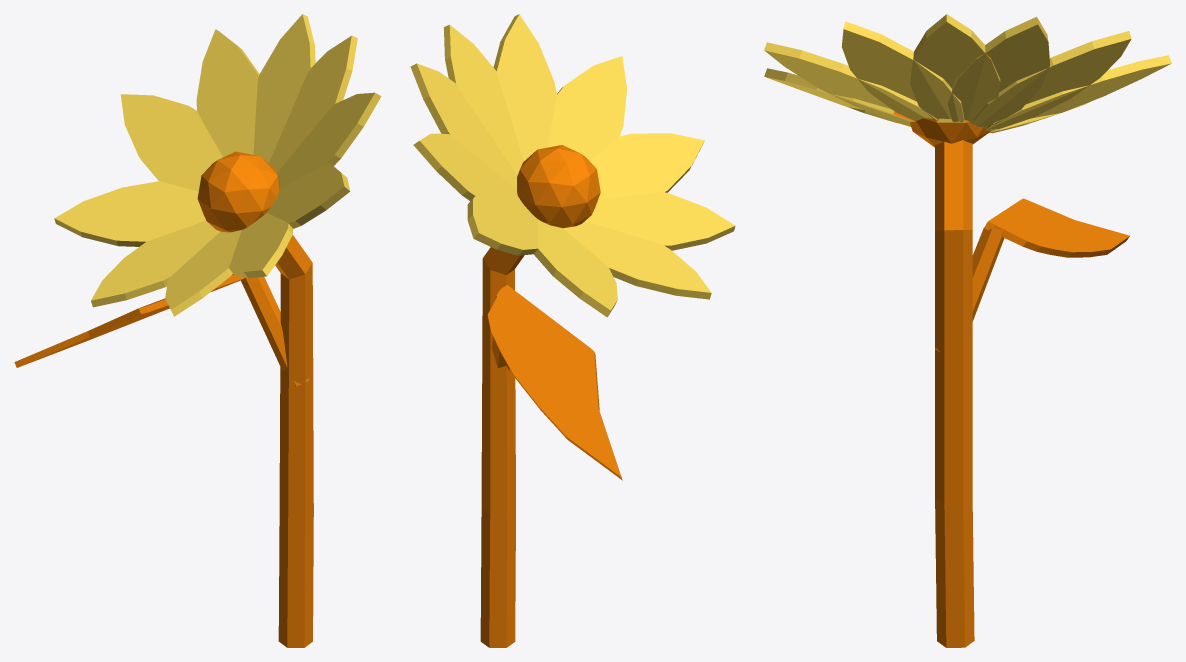
The model's file is fall island FLOWER.fbx.
3 views of the same model, side by side, from view 1: azimuth 30°, elevation 25°; view 2: azimuth 150°, elevation 25°; view 3: azimuth 270°, elevation 25° (orthographic). The views are drawn at different scales.
Parts seen in each view (by area): view 1: FLOWER.001; view 2: FLOWER.001; view 3: FLOWER.001.
Part boxes in pixels (x1,y1,x2,y2): FLOWER.001: [14, 14, 381, 647]; FLOWER.001: [410, 14, 735, 647]; FLOWER.001: [764, 14, 1171, 647].
Bounding box in the file's own units: 545 × 1167 × 659.
